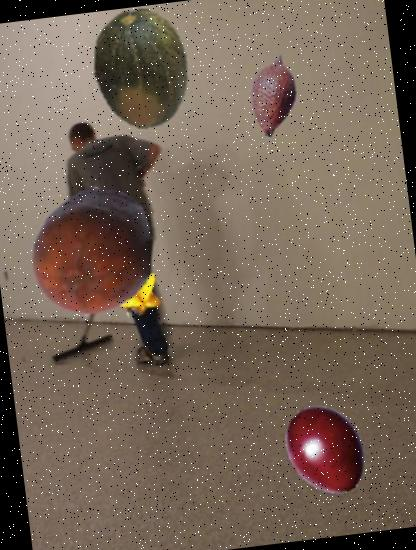Carambula: (107, 264, 168, 325)
Melon: (68, 2, 202, 136)
Nut: (20, 180, 165, 324)
Salak: (226, 49, 321, 142)
Tamarillo: (269, 391, 382, 504)
